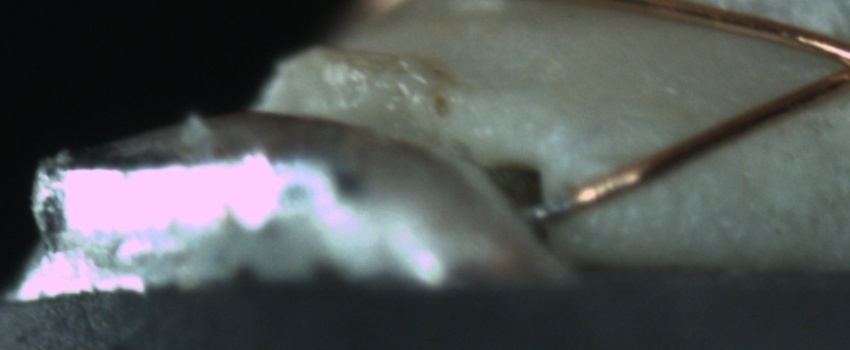CL: (808, 26, 850, 98)
TS: (525, 192, 575, 225)
